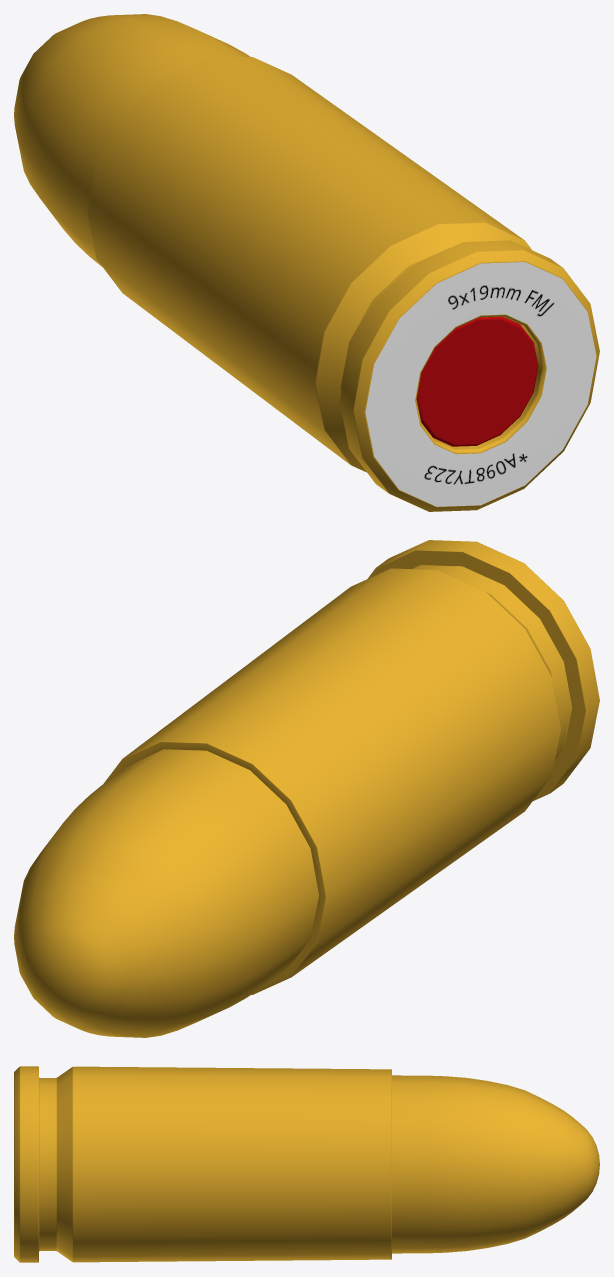
Rendered from Bullet.glb.
3 renders of one model, top to bottom at view 1: azimuth 30°, elevation 25°; view 2: azimuth 150°, elevation 25°; view 3: azimuth 270°, elevation 25°, orthographic. The views are drawn at different scales.
Parts seen in each view (by area): view 1: Bullet; view 2: Bullet; view 3: Bullet.
Boxes of the visible parts, x1,y1,x2,y2 form: Bullet: (14, 14, 599, 511); Bullet: (14, 540, 599, 1037); Bullet: (14, 1066, 599, 1262).
Bounding box in the file's own units: 0.0406 × 0.0406 × 0.1211.
Materials: 6 (1 with a texture image).
